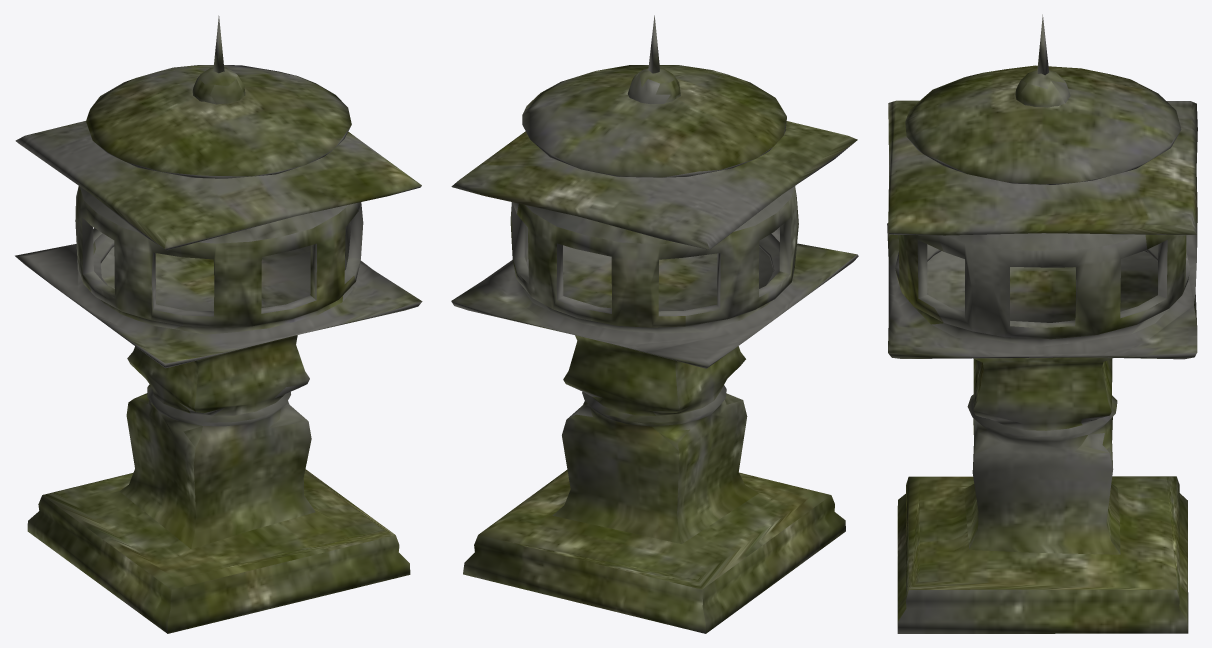
File: jp_kasuga.glb
The picture shows the model from 3 angles, left to right: view 1: azimuth 30°, elevation 25°; view 2: azimuth 150°, elevation 25°; view 3: azimuth 270°, elevation 25°; orthographic projection. The views are drawn at different scales.
Parts seen in each view (by area): view 1: Stone_Lantern_1; view 2: Stone_Lantern_1; view 3: Stone_Lantern_1.
Boxes of the visible parts, x1=… form: Stone_Lantern_1: x1=15, y1=15, x2=422, y2=633; Stone_Lantern_1: x1=451, y1=15, x2=858, y2=633; Stone_Lantern_1: x1=887, y1=14, x2=1197, y2=633.
Bounding box in the file's own units: 1.01 × 2 × 1.01.
1 material, 1 textured.
